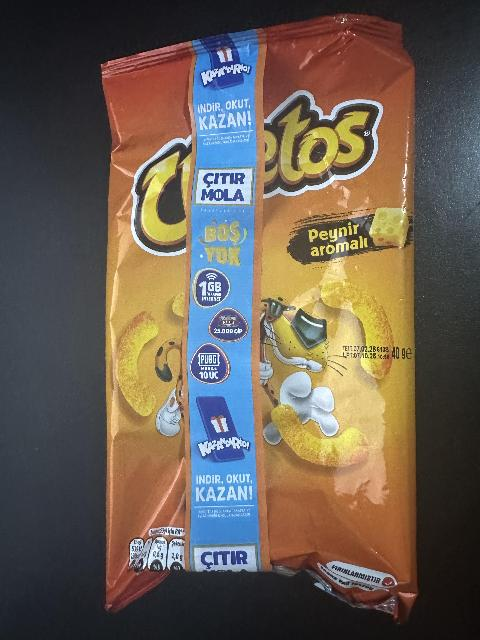Plastik: (102, 17, 446, 616)
